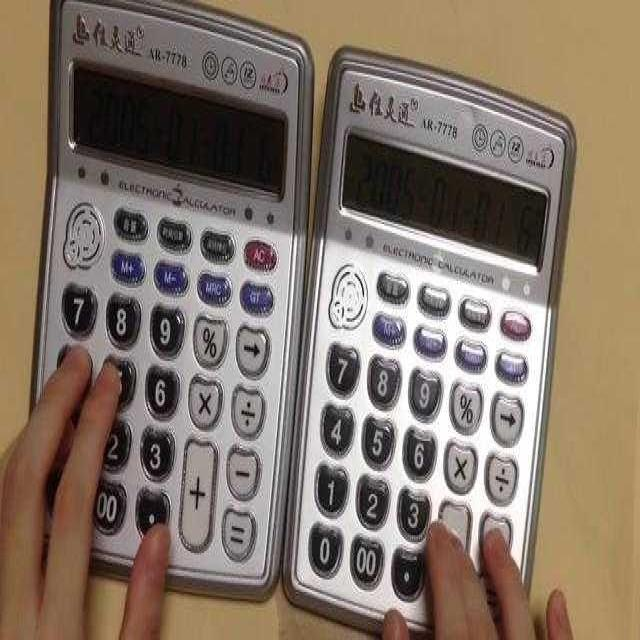Calculator: (298, 84, 568, 640), (50, 0, 299, 587)
